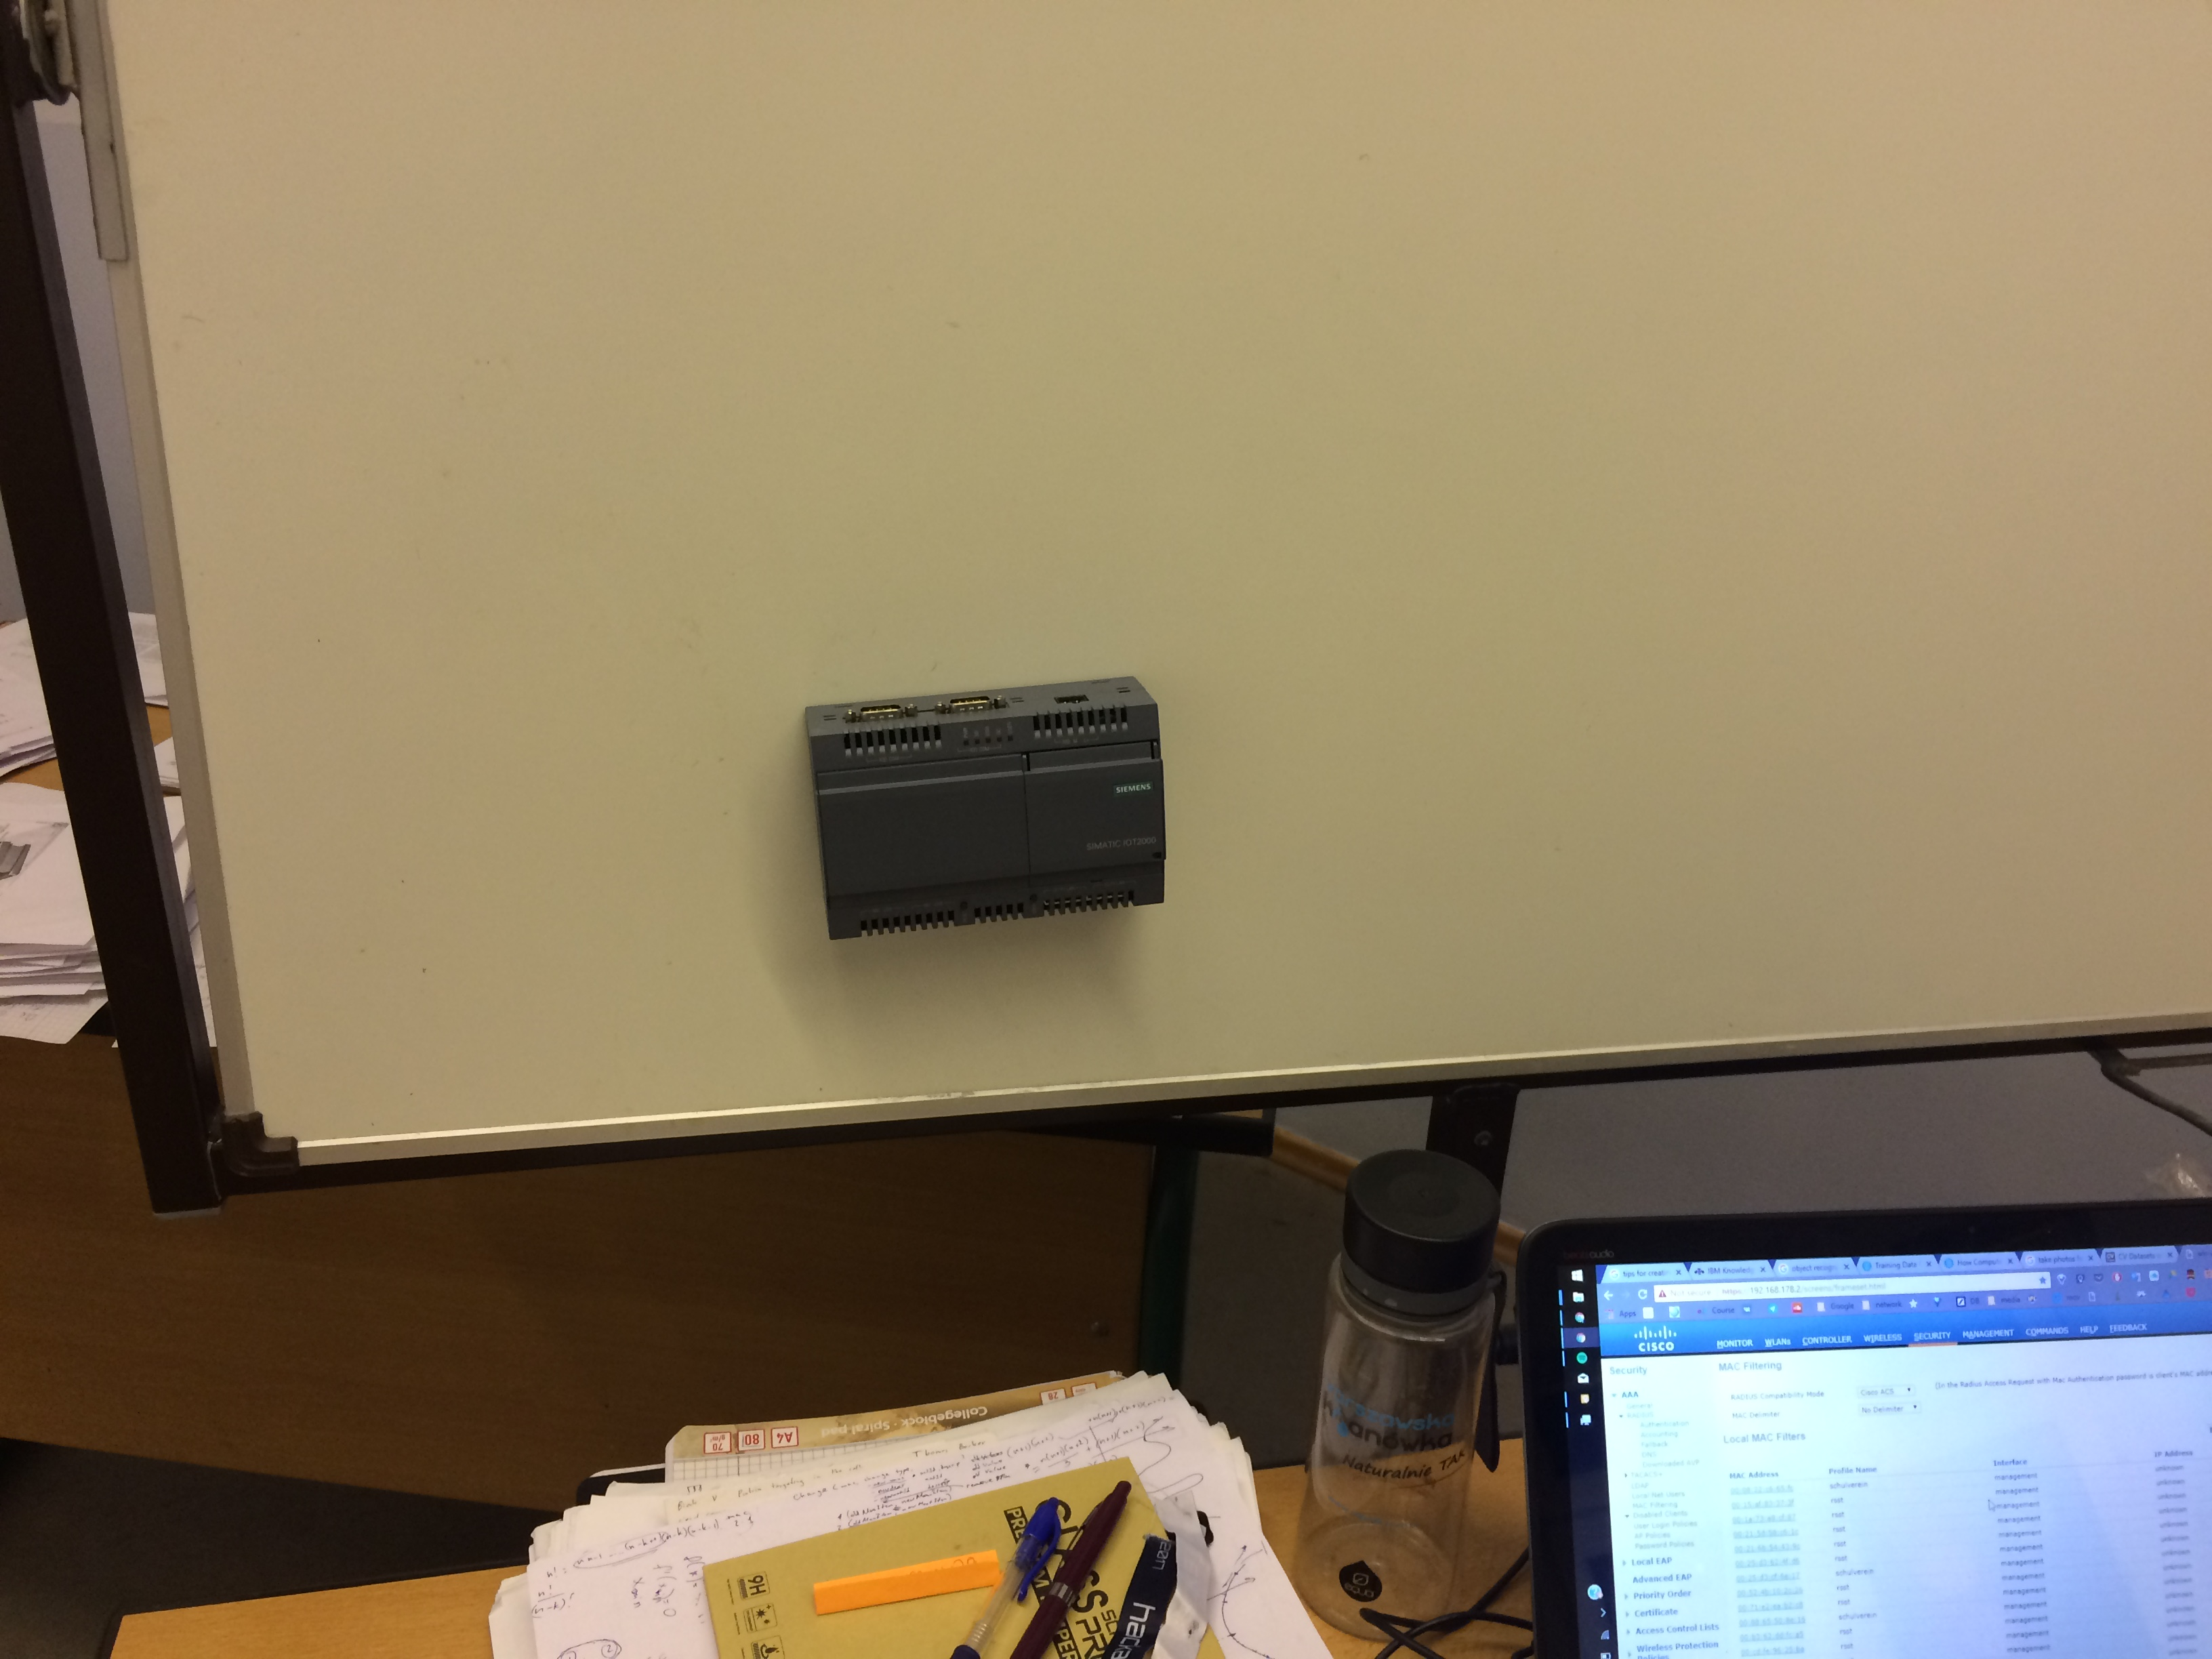iot2000: (801, 671, 1170, 945)
